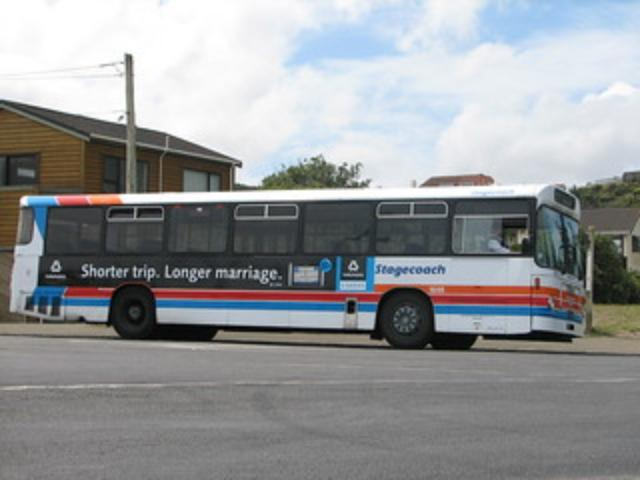bus: (8, 182, 586, 350)
